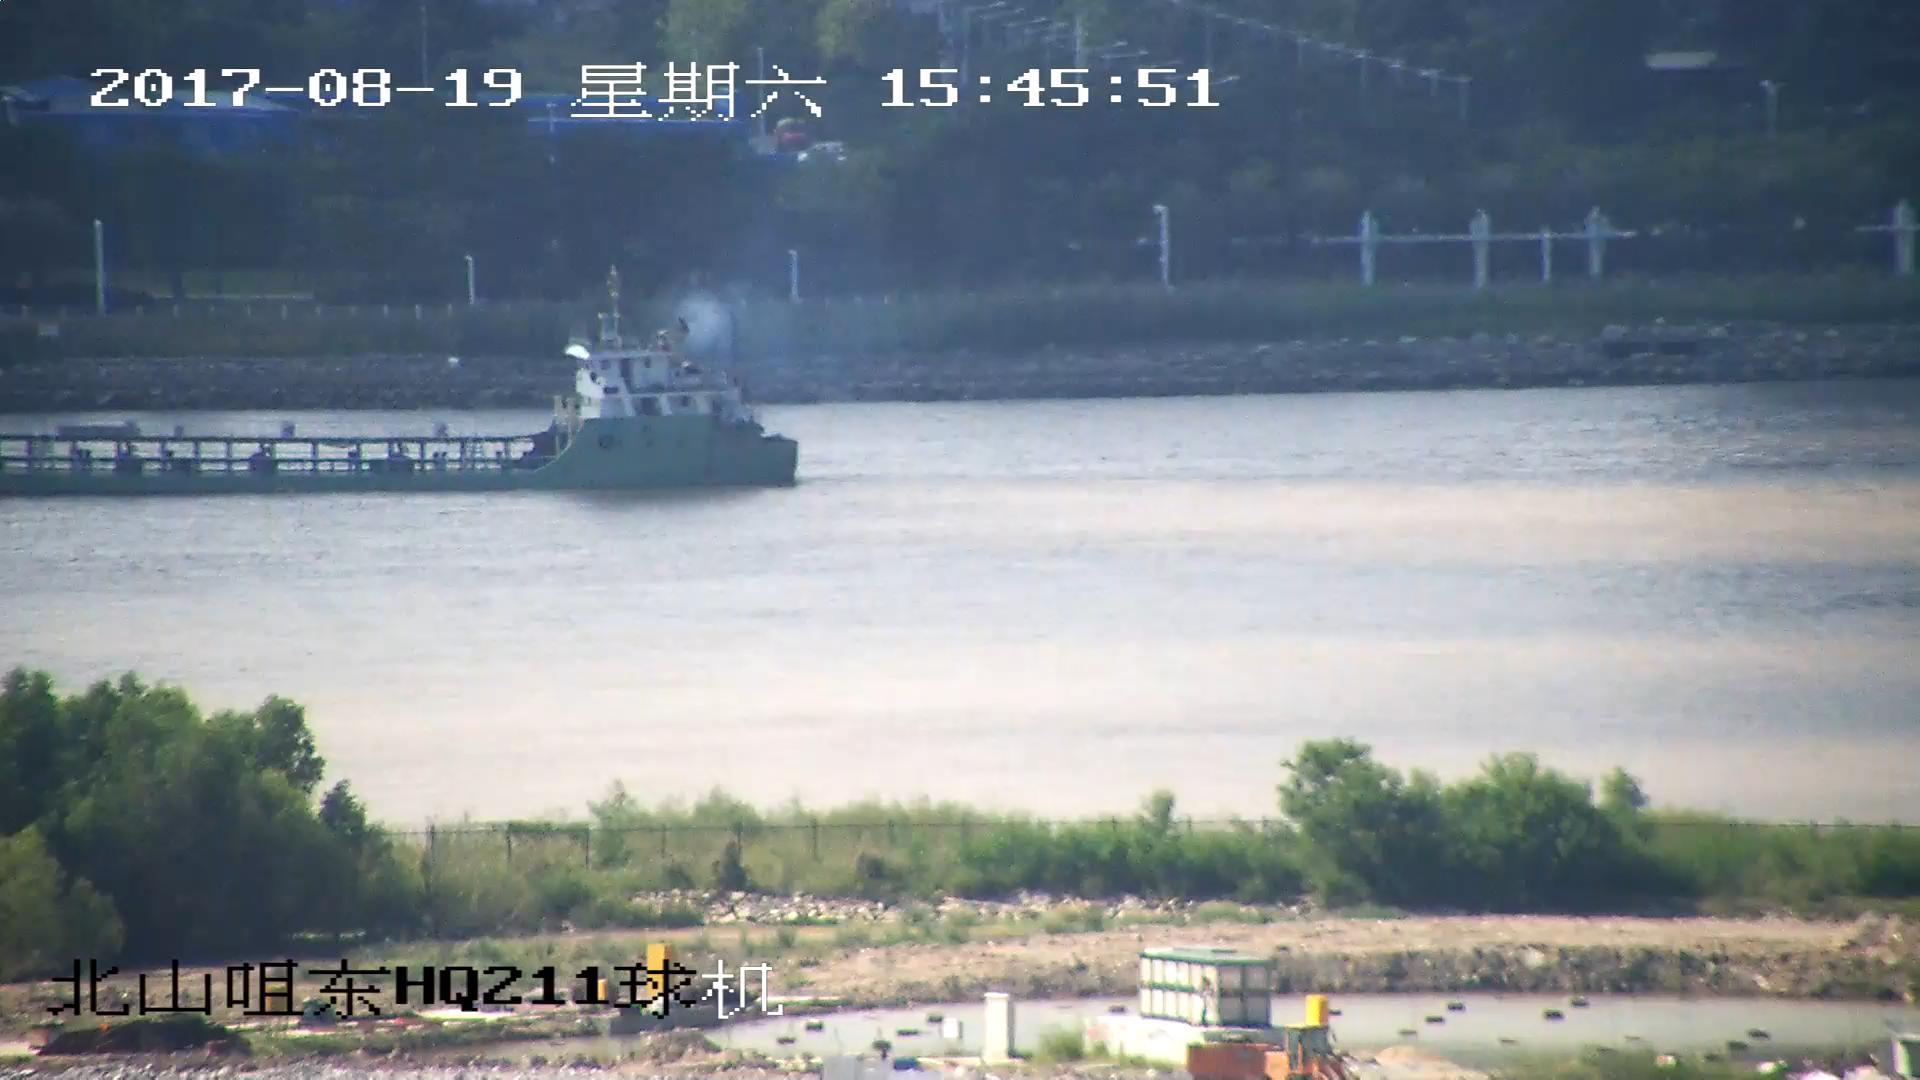Ship: (3, 272, 800, 491)
